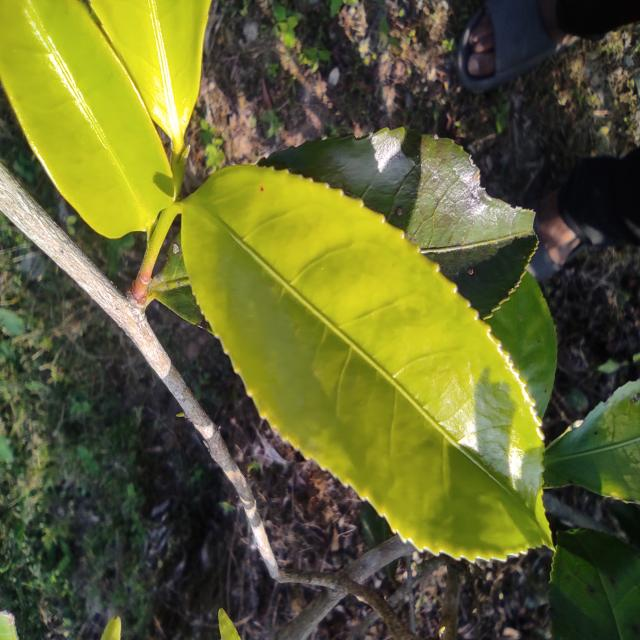Category B(2-4 days): (173, 128, 563, 594)
